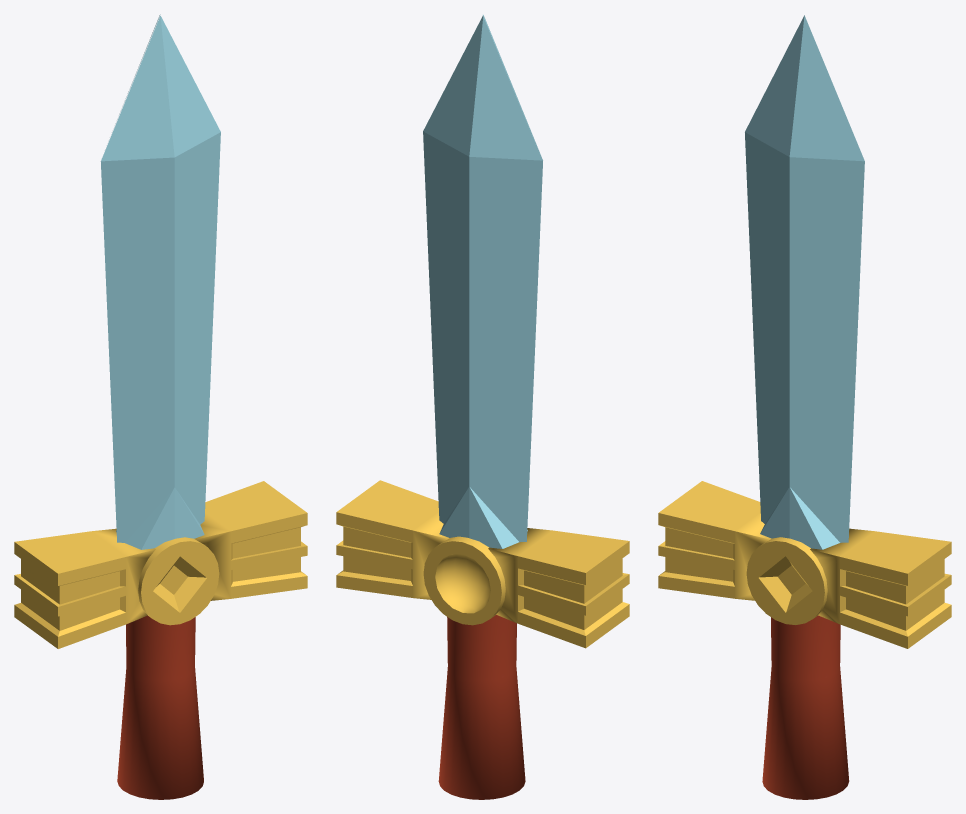
Rendered from socket sword.fbx.
3 views of the same model, side by side, from view 1: azimuth 30°, elevation 25°; view 2: azimuth 150°, elevation 25°; view 3: azimuth 330°, elevation 25° (orthographic).
Visible parts, largest first — view 1: Socket Sword; view 2: Socket Sword; view 3: Socket Sword.
Part boxes in pixels (bbox=[...]): Socket Sword: bbox=[14, 14, 307, 799]; Socket Sword: bbox=[336, 15, 629, 799]; Socket Sword: bbox=[658, 15, 951, 799].
Size of the model in its own units: 20.14 by 60.43 by 6.21.
